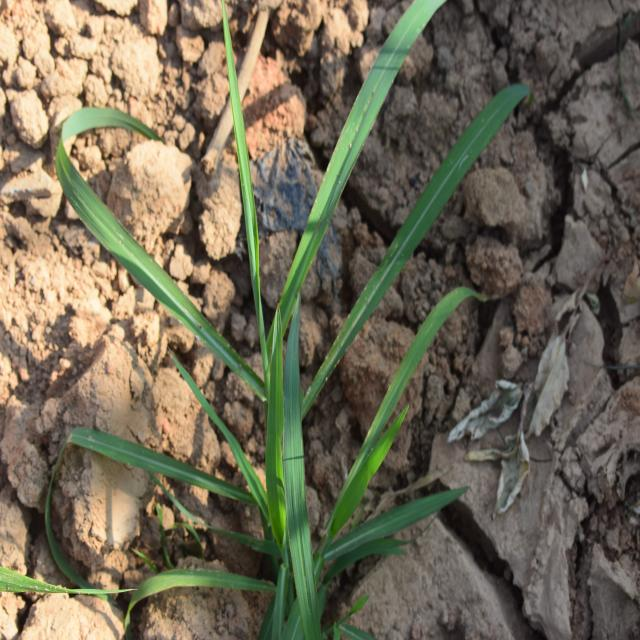green_foxtail: (113, 90, 442, 580)
